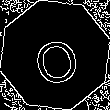O_N: (27, 25, 83, 85)
